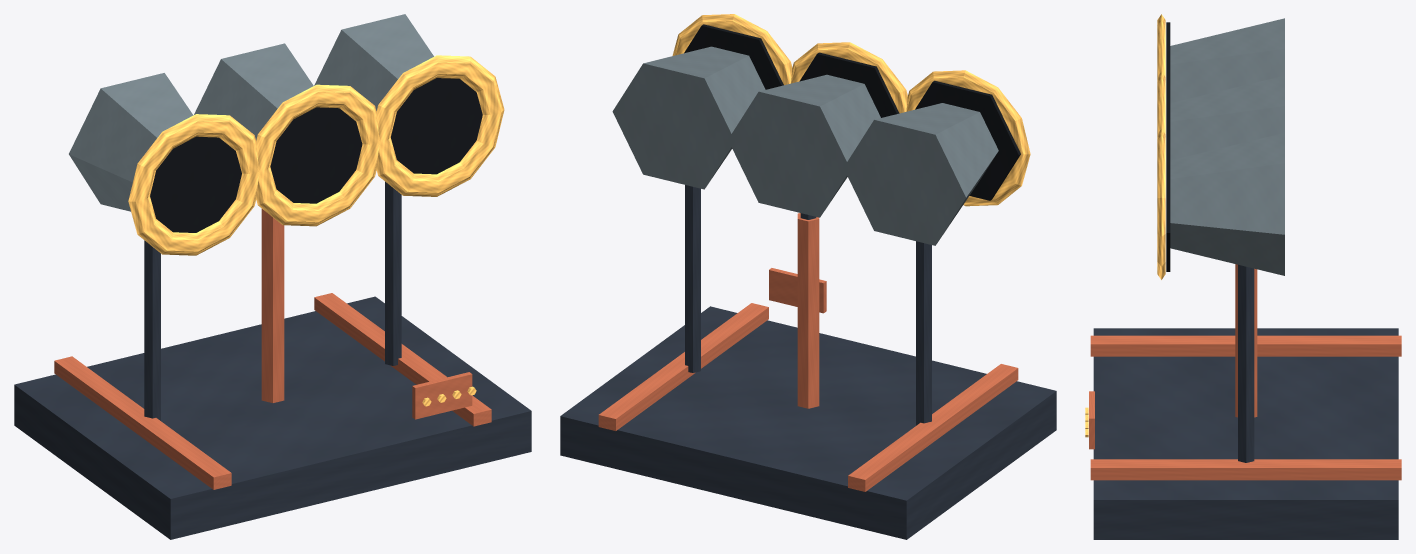
File: atlas100-s024-a01.glb
The picture shows the model from 3 angles, left to right: view 1: azimuth 30°, elevation 25°; view 2: azimuth 150°, elevation 25°; view 3: azimuth 270°, elevation 25°; orthographic projection. The views are drawn at different scales.
Parts seen in each view (by area): view 1: atlas100-s024-a01:part-000, atlas100-s024-a01:part-006, atlas100-s024-a01:part-008, atlas100-s024-a01:part-016, atlas100-s024-a01:part-012, atlas100-s024-a01:part-015, atlas100-s024-a01:part-011, atlas100-s024-a01:part-007, atlas100-s024-a01:part-010, atlas100-s024-a01:part-014, atlas100-s024-a01:part-001, atlas100-s024-a01:part-003 (+4 smaller); view 2: atlas100-s024-a01:part-000, atlas100-s024-a01:part-006, atlas100-s024-a01:part-014, atlas100-s024-a01:part-010, atlas100-s024-a01:part-001, atlas100-s024-a01:part-002, atlas100-s024-a01:part-003, atlas100-s024-a01:part-007, atlas100-s024-a01:part-008, atlas100-s024-a01:part-013, atlas100-s024-a01:part-005, atlas100-s024-a01:part-015 (+4 smaller); view 3: atlas100-s024-a01:part-000, atlas100-s024-a01:part-014, atlas100-s024-a01:part-002, atlas100-s024-a01:part-010, atlas100-s024-a01:part-006, atlas100-s024-a01:part-001, atlas100-s024-a01:part-013, atlas100-s024-a01:part-016, atlas100-s024-a01:part-003, atlas100-s024-a01:part-015, atlas100-s024-a01:part-008, atlas100-s024-a01:part-012.
Part boxes in pixels (<box>): atlas100-s024-a01:part-000: <box>14,296,531,539</box>; atlas100-s024-a01:part-006: <box>69,73,193,211</box>; atlas100-s024-a01:part-008: <box>128,114,260,255</box>; atlas100-s024-a01:part-016: <box>376,55,504,196</box>; atlas100-s024-a01:part-012: <box>256,84,380,226</box>; atlas100-s024-a01:part-015: <box>391,78,482,174</box>; atlas100-s024-a01:part-011: <box>270,107,362,203</box>; atlas100-s024-a01:part-007: <box>150,136,241,232</box>; atlas100-s024-a01:part-010: <box>194,43,313,140</box>; atlas100-s024-a01:part-014: <box>314,14,433,110</box>; atlas100-s024-a01:part-001: <box>54,356,231,489</box>; atlas100-s024-a01:part-003: <box>261,209,284,402</box>; atlas100-s024-a01:part-000: <box>560,306,1056,539</box>; atlas100-s024-a01:part-006: <box>843,103,998,245</box>; atlas100-s024-a01:part-014: <box>612,46,765,189</box>; atlas100-s024-a01:part-010: <box>728,74,880,217</box>; atlas100-s024-a01:part-001: <box>848,364,1018,491</box>; atlas100-s024-a01:part-002: <box>598,303,768,430</box>; atlas100-s024-a01:part-003: <box>797,213,819,408</box>; atlas100-s024-a01:part-007: <box>915,80,1020,200</box>; atlas100-s024-a01:part-008: <box>906,70,1030,206</box>; atlas100-s024-a01:part-013: <box>685,185,700,372</box>; atlas100-s024-a01:part-005: <box>916,241,931,425</box>; atlas100-s024-a01:part-015: <box>684,24,783,89</box>; atlas100-s024-a01:part-000: <box>1093,328,1398,539</box>; atlas100-s024-a01:part-014: <box>1170,133,1284,275</box>; atlas100-s024-a01:part-002: <box>1090,459,1401,480</box>; atlas100-s024-a01:part-010: <box>1170,75,1284,160</box>; atlas100-s024-a01:part-006: <box>1170,18,1284,102</box>; atlas100-s024-a01:part-001: <box>1090,335,1401,356</box>; atlas100-s024-a01:part-013: <box>1238,264,1254,462</box>; atlas100-s024-a01:part-016: <box>1157,129,1165,279</box>; atlas100-s024-a01:part-003: <box>1235,264,1257,417</box>; atlas100-s024-a01:part-015: <box>1166,137,1170,271</box>; atlas100-s024-a01:part-008: <box>1157,14,1165,76</box>; atlas100-s024-a01:part-012: <box>1157,71,1165,133</box>.
Bounding box in the file's own units: 2.5 × 2.45 × 1.87.
5 materials, 5 textured.
